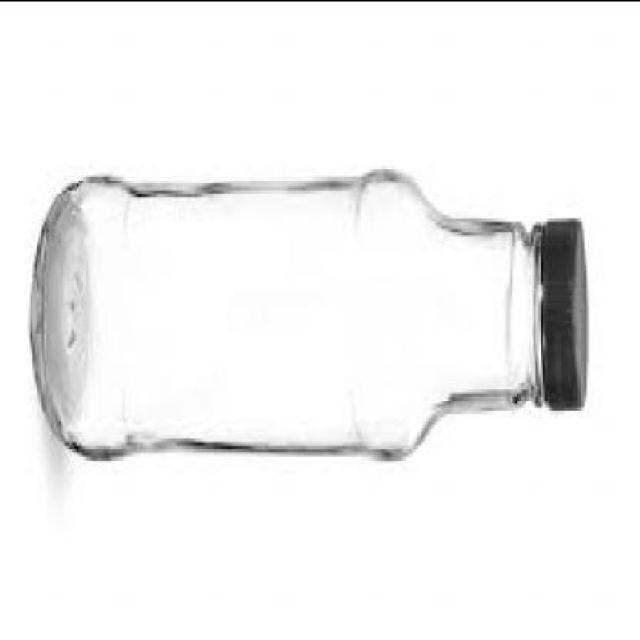glass: (36, 178, 546, 462)
metal: (542, 225, 592, 417)
